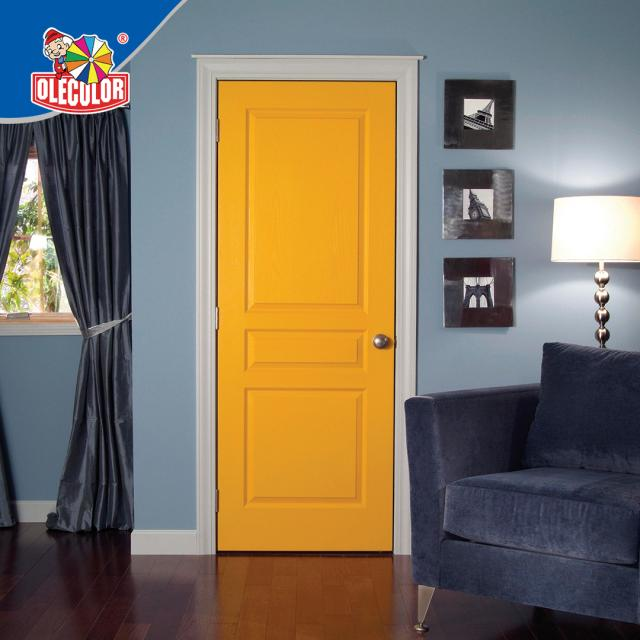close: (211, 77, 399, 557)
